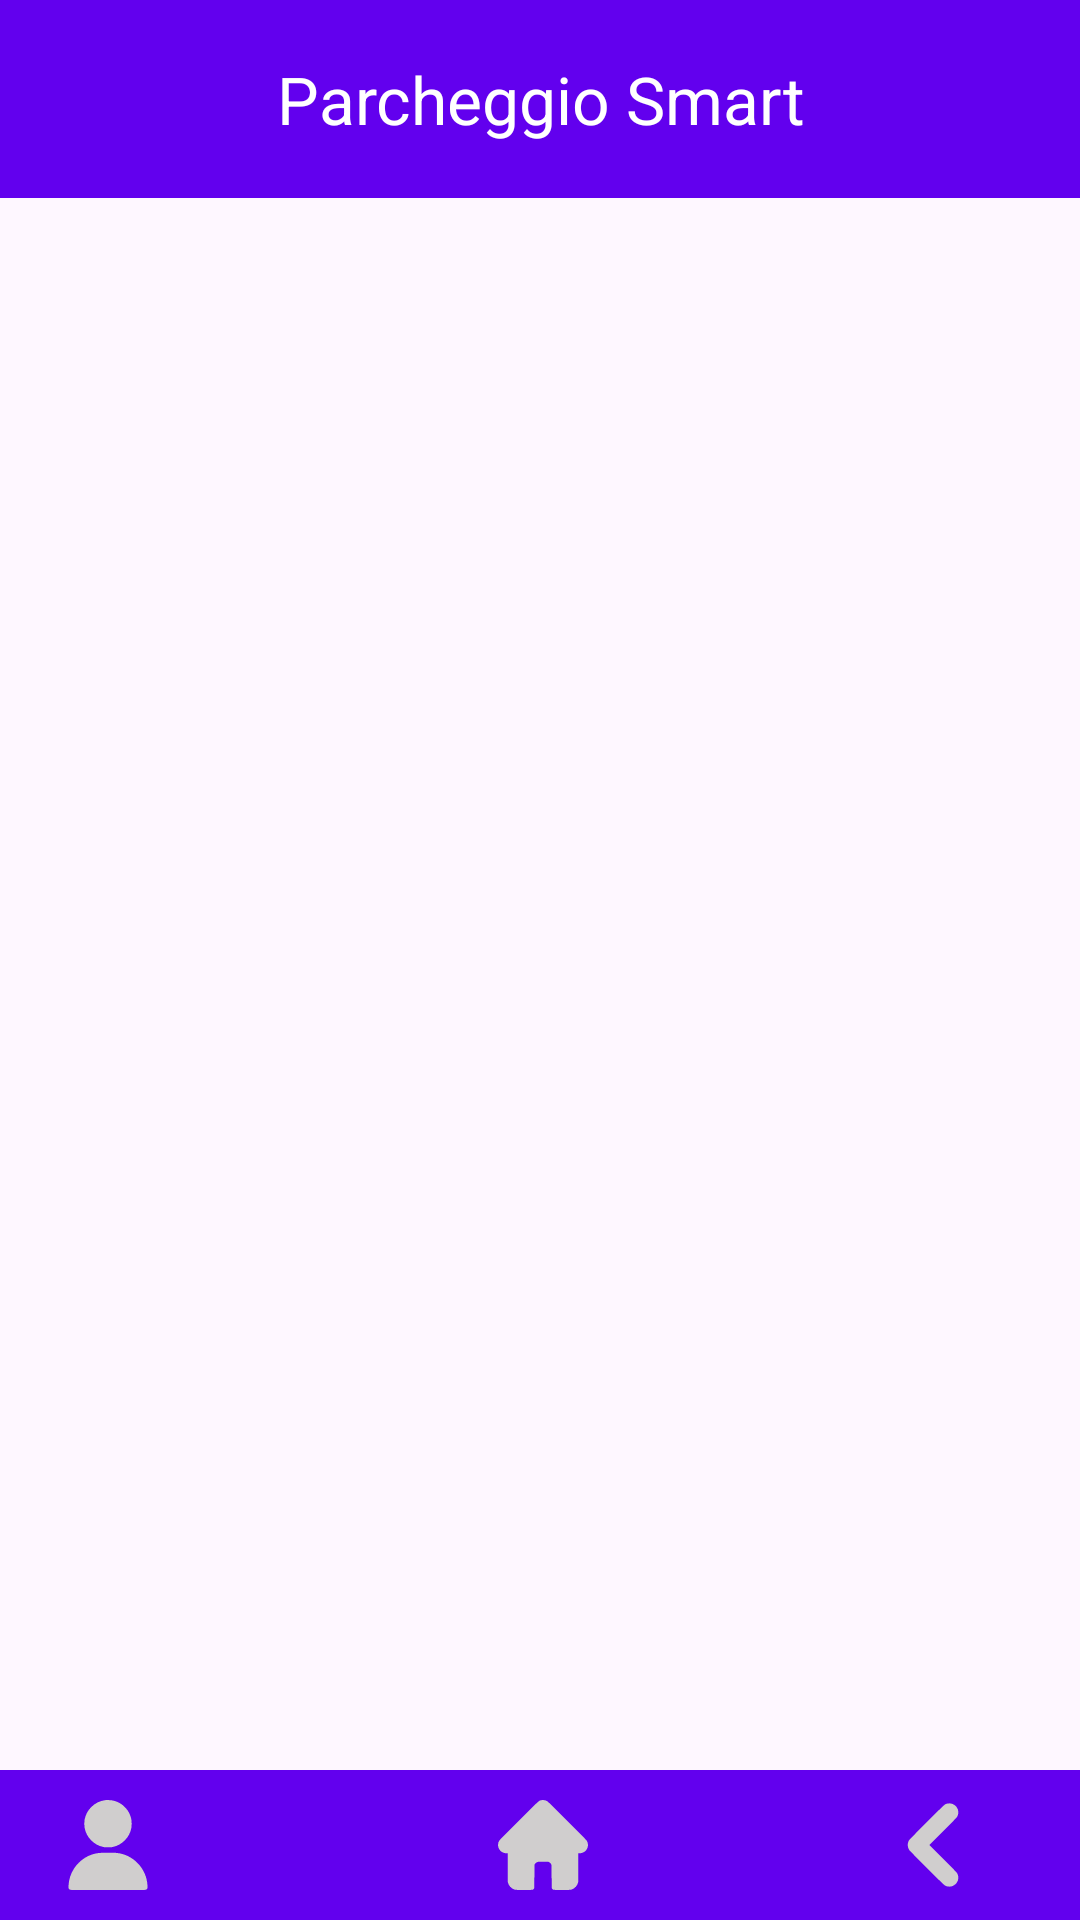

Icons on this 1080x1920 Android screen, each with its box as (x1, y1, x2, y2):
Area Utente: (68, 1800, 148, 1890)
back: (907, 1803, 959, 1887)
Home: (498, 1800, 588, 1890)
